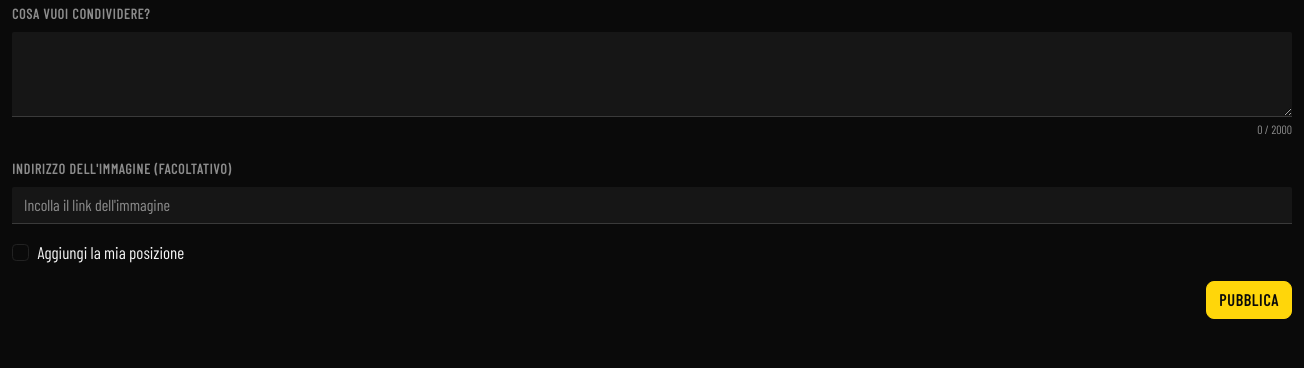
Test case: NewPostForm · campi e controlli › un indirizzo dell'immagine che non è http/https non parte
This screenshot has width=1304, height=368.
Step 1. Type "Ciao" into the text box labelled "Cosa vuoi condividere?" → (652, 75), box [12,32,1292,117]
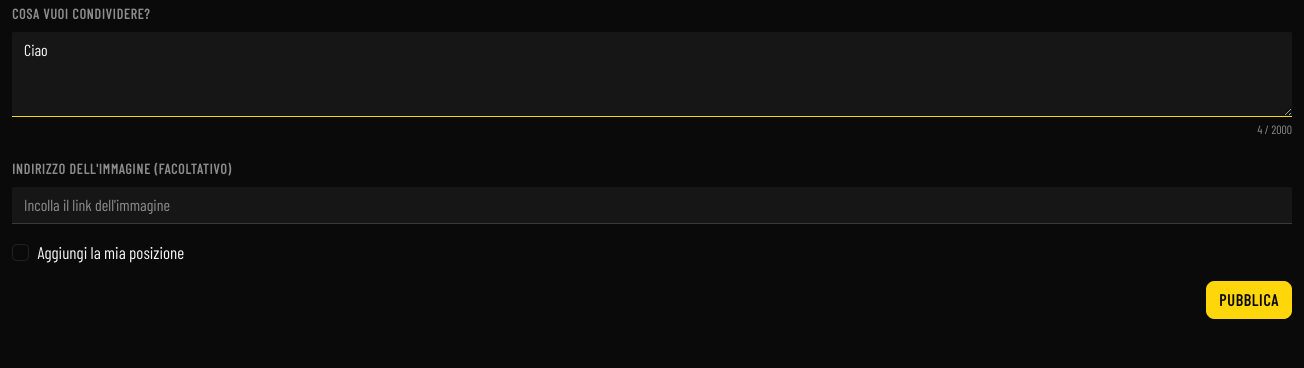
Step 2. Type "javascript:alert(1)" into the field labelled "Indirizzo dell'immagine (facoltativo)" → (652, 206), box [12,187,1292,224]
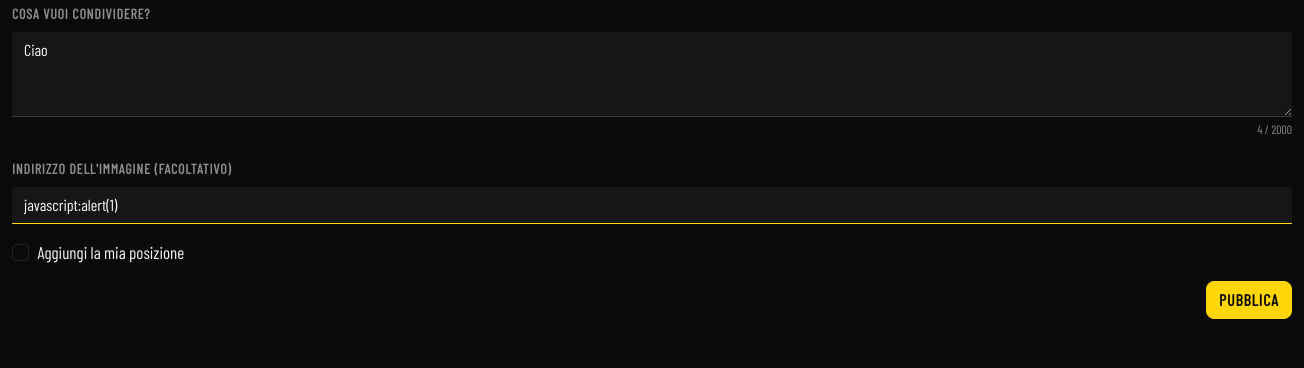
Step 3. Click the button "Pubblica" → (1249, 300), box [1206,281,1292,319]
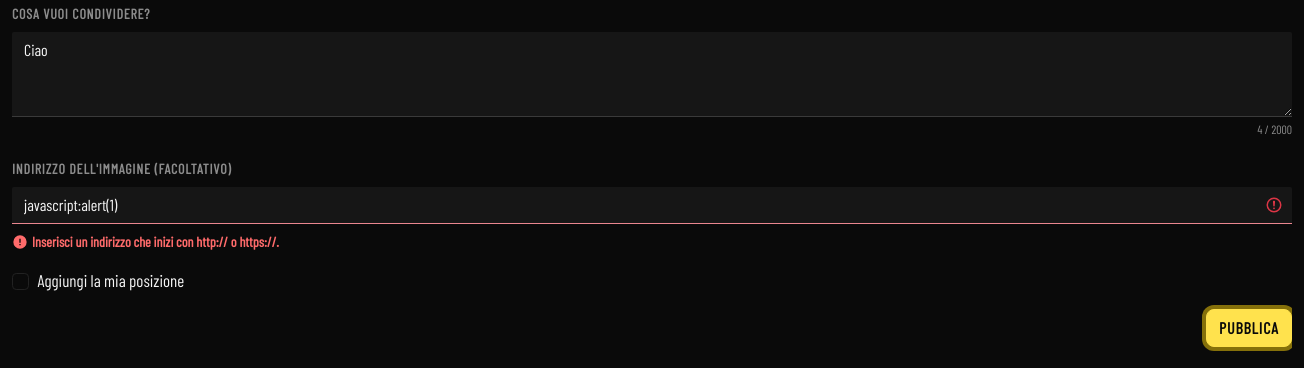
Now the text "Inserisci un indirizzo che inizi con http:// o https://." is shown, box [32,232,279,252]
